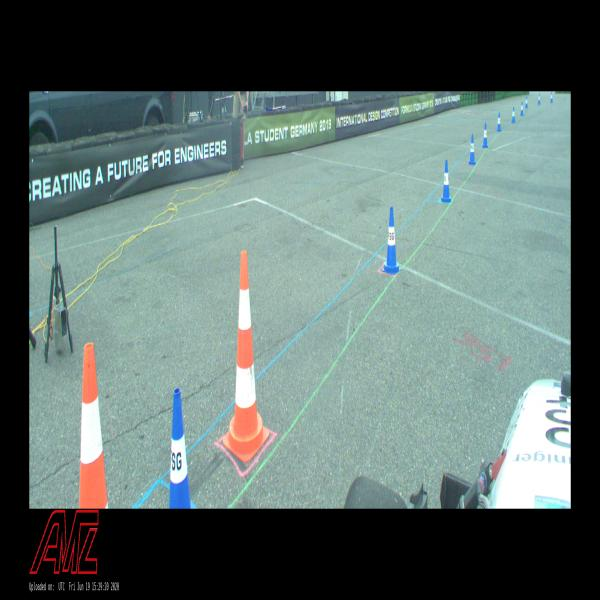blue_cone: (169, 388, 197, 509), (382, 206, 401, 274), (441, 160, 451, 203), (468, 134, 476, 165), (482, 123, 488, 148), (497, 112, 502, 132), (520, 102, 524, 115), (512, 107, 515, 123), (525, 97, 528, 108), (550, 92, 553, 102), (538, 94, 540, 104)
large_orange_cone: (223, 250, 269, 462), (80, 343, 109, 509)
